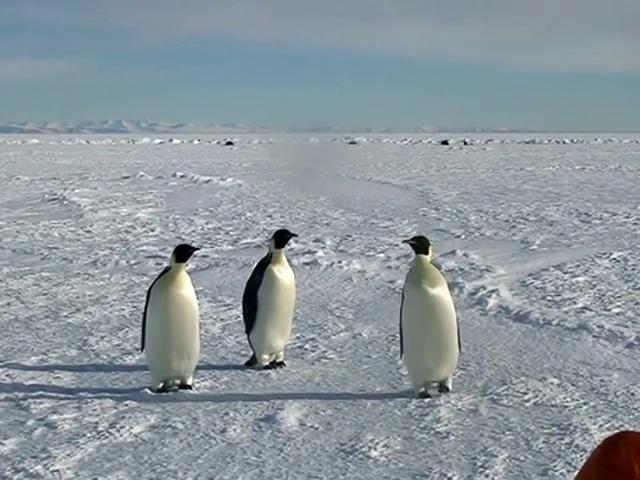animal: (401, 236, 462, 398)
